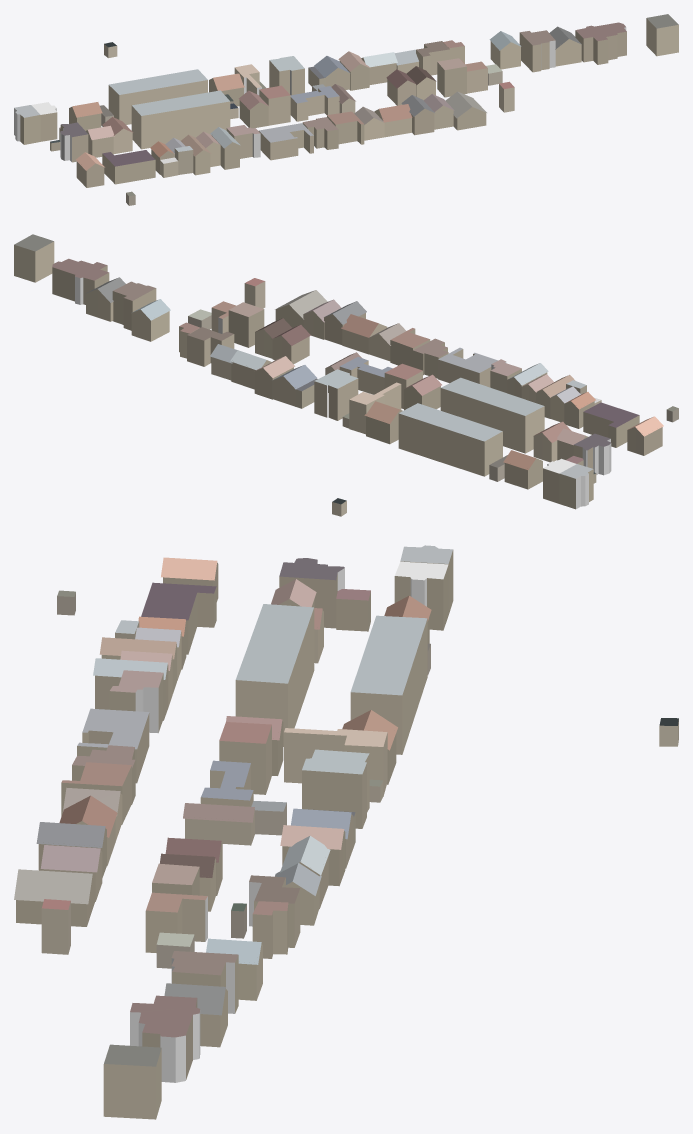
3 views of the same model, one above another, from view 1: azimuth 30°, elevation 25°; view 2: azimuth 150°, elevation 25°; view 3: azimuth 270°, elevation 25° (orthographic). The views are drawn at different scales.
Visible parts, largest first — view 1: tuile; view 2: tuile; view 3: tuile.
Boxes of the visible parts, left/top/right/bottom form: tuile: left=14, top=14, right=678, bottom=205; tuile: left=14, top=234, right=678, bottom=516; tuile: left=14, top=545, right=678, bottom=1119.
Size of the model in its own units: 249 by 15.28 by 130.
